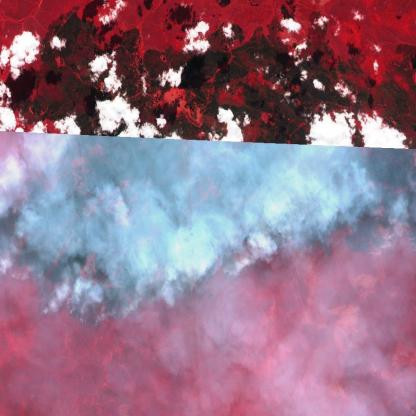fire: (0, 135, 416, 336)
